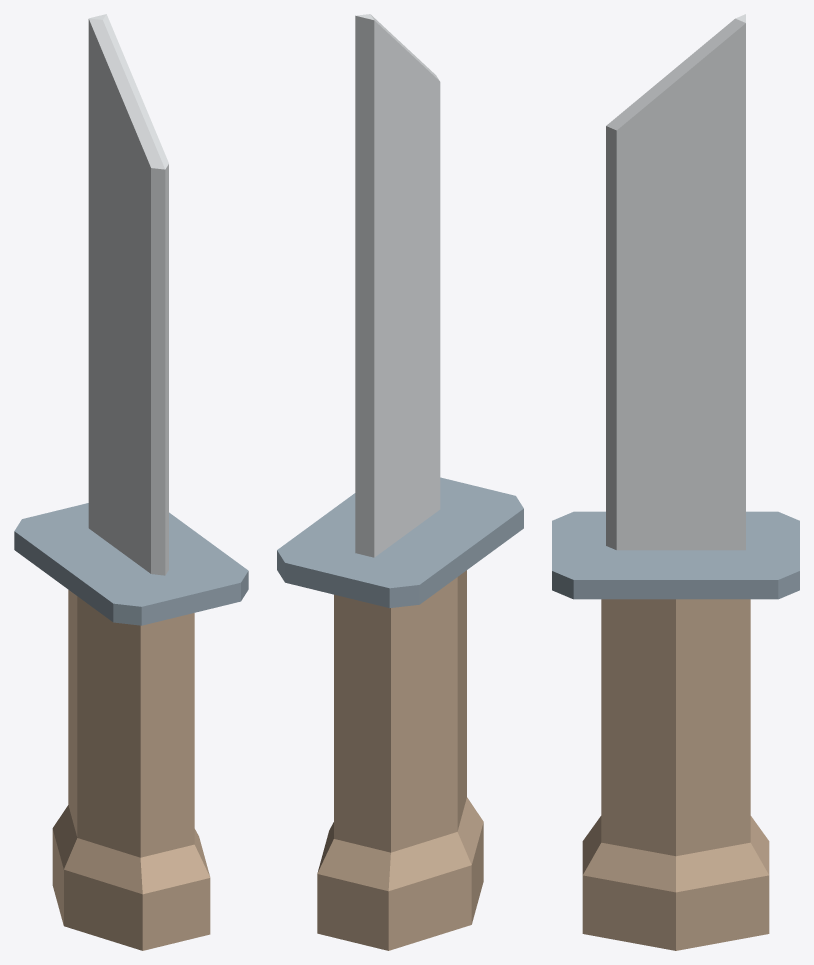
Rendered from kenney-weapon-knife-round-sharp.glb.
3 views of the same model, side by side, from view 1: azimuth 30°, elevation 25°; view 2: azimuth 150°, elevation 25°; view 3: azimuth 270°, elevation 25° (orthographic). The views are drawn at different scales.
Parts seen in each view (by area): view 1: knifeRound_sharp; view 2: knifeRound_sharp; view 3: knifeRound_sharp.
Part boxes in pixels (box(x1,y1,x2,y2)): knifeRound_sharp: box(14, 14, 248, 950); knifeRound_sharp: box(277, 14, 523, 950); knifeRound_sharp: box(552, 14, 799, 950).
Size of the model in its own units: 0.0574 by 0.3522 by 0.0881.
